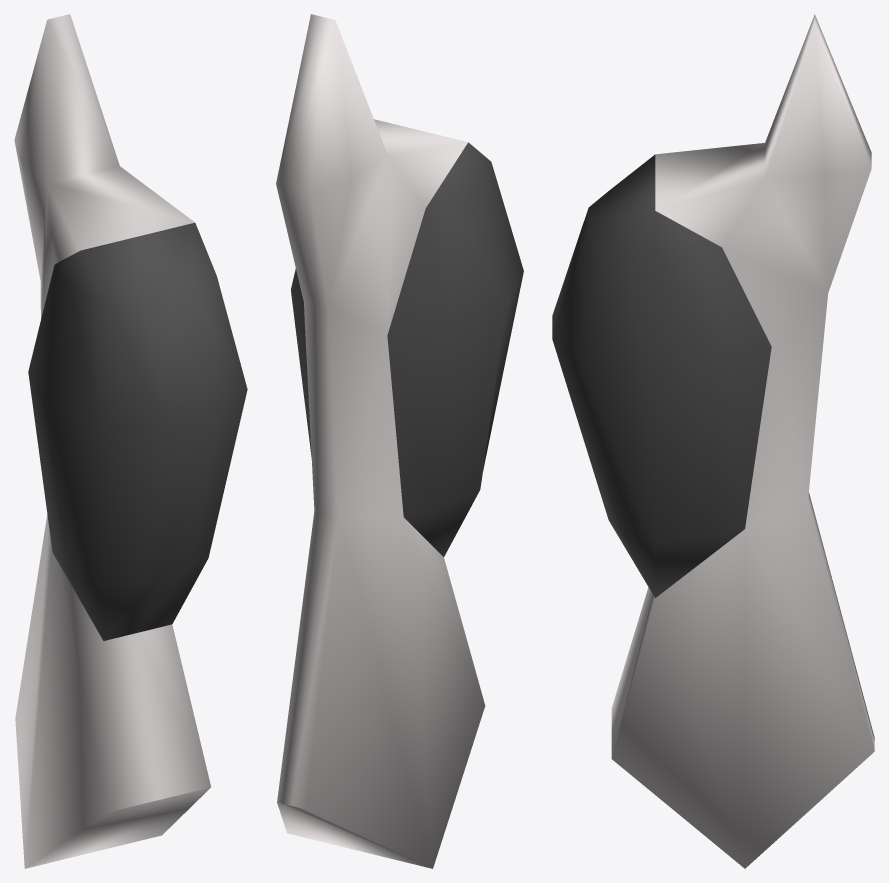
The model's file is LLeagUnder.fbx.
The picture shows the model from 3 angles, left to right: view 1: azimuth 30°, elevation 25°; view 2: azimuth 150°, elevation 25°; view 3: azimuth 270°, elevation 25°; orthographic projection. The views are drawn at different scales.
Parts seen in each view (by area): view 1: Shape_IndexedFaceSet.058, Shape_IndexedFaceSet.057; view 2: Shape_IndexedFaceSet.057, Shape_IndexedFaceSet.058; view 3: Shape_IndexedFaceSet.057, Shape_IndexedFaceSet.058.
Part boxes in pixels (x1=…): Shape_IndexedFaceSet.058: x1=28, y1=222, x2=247, y2=640; Shape_IndexedFaceSet.057: x1=14, y1=14, x2=210, y2=868; Shape_IndexedFaceSet.057: x1=276, y1=14, x2=485, y2=868; Shape_IndexedFaceSet.058: x1=291, y1=142, x2=523, y2=556; Shape_IndexedFaceSet.057: x1=611, y1=14, x2=874, y2=868; Shape_IndexedFaceSet.058: x1=552, y1=154, x2=771, y2=597.
Size of the model in its own units: 0.1349 by 0.5573 by 0.1998.
Materials: 2 (2 with a texture image).
